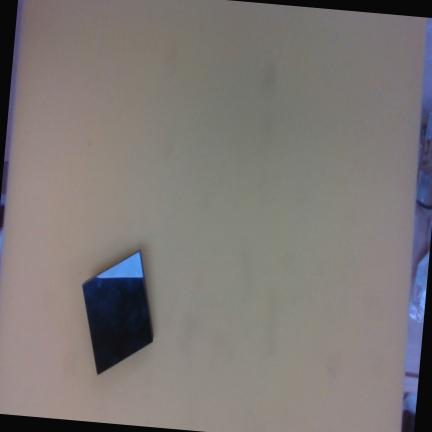tile: (78, 251, 157, 376)
